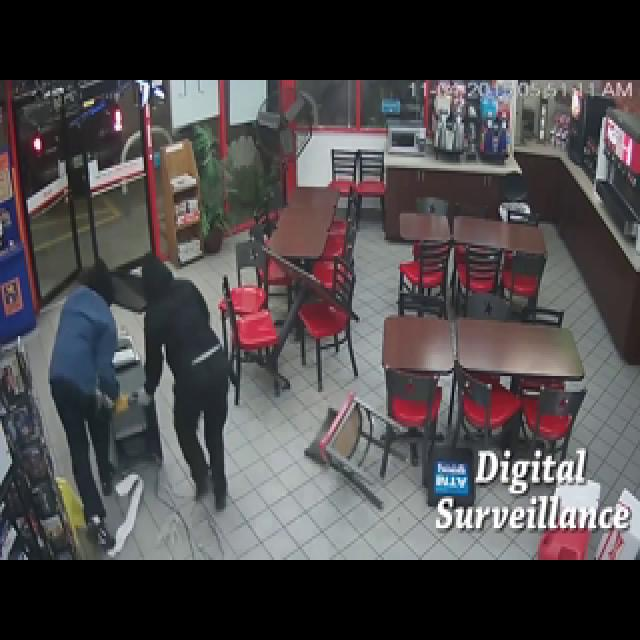burglary: (50, 256, 337, 608)
